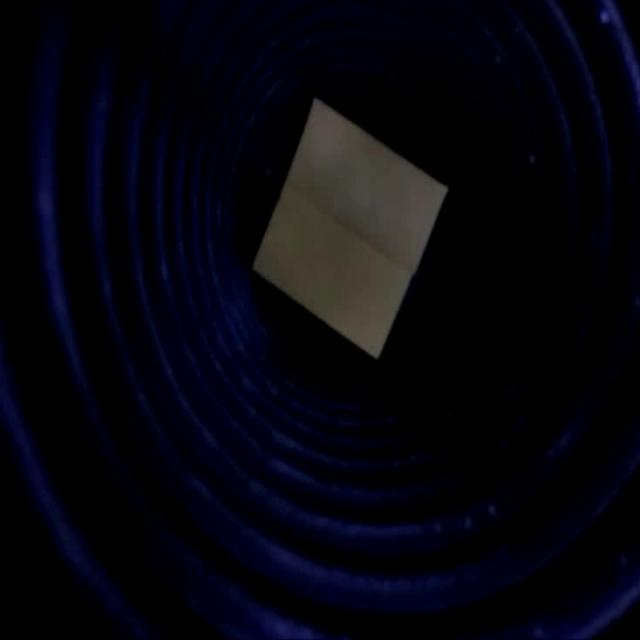obstacles: (254, 95, 449, 364)
